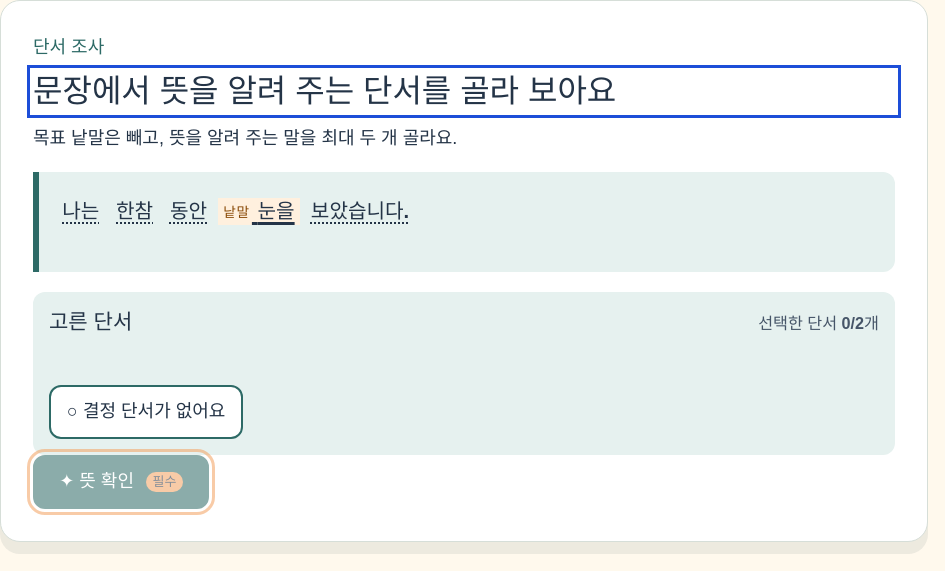
Test: ClueInvestigationScreen › reports no selected clue when the decision is insufficient
Step 1. Click the button "○ 결정 단서가 없어요" → (146,412), box [49,384,243,439]
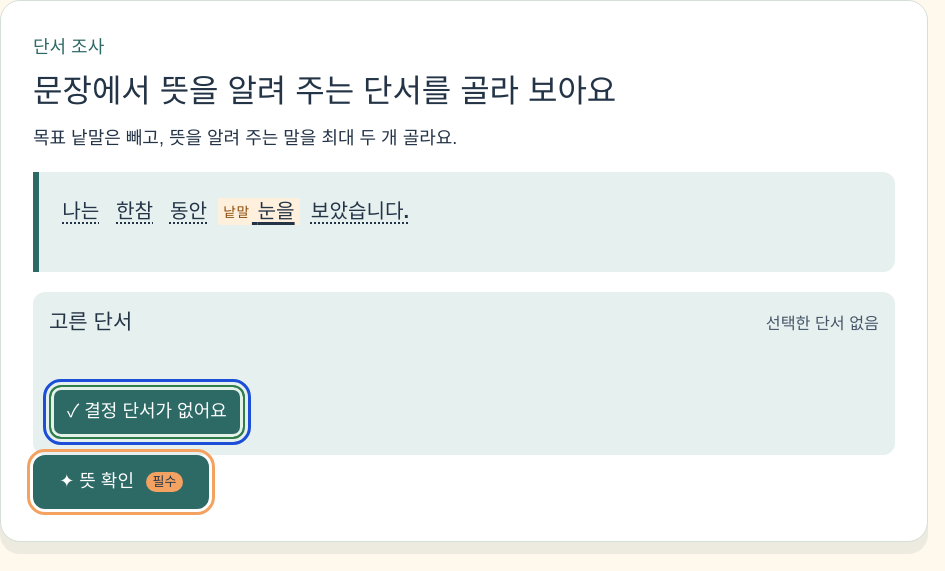
Expected: the text "선택한 단서 없음" is shown, [766,310,879,337]
